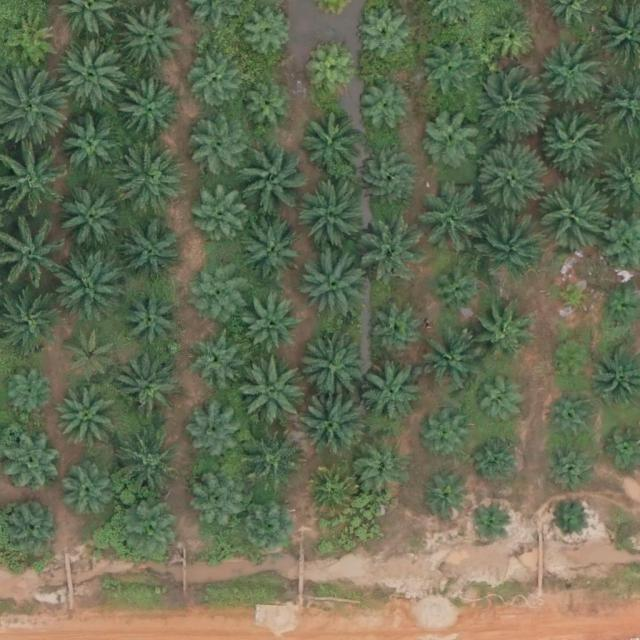Healthy: (295, 248, 366, 319), (114, 147, 185, 218), (539, 105, 609, 176), (537, 179, 607, 250), (473, 75, 543, 146), (474, 144, 545, 214), (474, 208, 544, 279), (356, 211, 426, 282), (297, 183, 367, 254), (236, 356, 306, 427), (114, 79, 184, 150), (59, 44, 129, 115), (57, 255, 127, 326), (534, 44, 604, 114), (299, 390, 369, 460), (294, 330, 364, 400), (234, 145, 304, 215), (111, 433, 181, 503), (58, 183, 128, 253), (470, 303, 533, 366), (357, 149, 420, 212), (360, 363, 423, 426), (239, 218, 302, 281), (240, 429, 303, 492), (120, 4, 183, 67), (62, 116, 125, 179), (417, 333, 479, 396), (417, 191, 479, 254), (300, 113, 362, 176), (190, 116, 252, 179), (121, 221, 183, 284), (117, 362, 179, 425), (122, 504, 185, 566), (57, 387, 119, 450), (421, 107, 483, 169), (547, 391, 602, 446), (541, 441, 596, 496), (303, 465, 358, 520), (484, 13, 539, 68), (430, 264, 485, 319), (356, 8, 411, 63), (370, 307, 425, 362), (247, 301, 302, 356), (192, 473, 247, 528), (186, 406, 241, 461), (193, 188, 248, 243), (184, 53, 239, 108), (125, 292, 180, 347), (64, 467, 119, 522), (7, 496, 62, 551), (4, 14, 59, 69), (421, 44, 475, 99), (357, 81, 411, 136), (356, 444, 410, 499), (242, 6, 296, 61), (240, 83, 294, 138), (241, 502, 295, 557), (186, 330, 240, 385), (192, 260, 246, 315), (66, 328, 120, 383), (3, 368, 57, 423)
Small: (549, 339, 596, 387), (474, 380, 521, 427), (476, 435, 523, 482), (424, 414, 471, 461), (423, 477, 470, 524), (468, 502, 508, 542), (554, 277, 593, 317), (552, 500, 591, 539)
Yellow: (308, 49, 355, 97)
